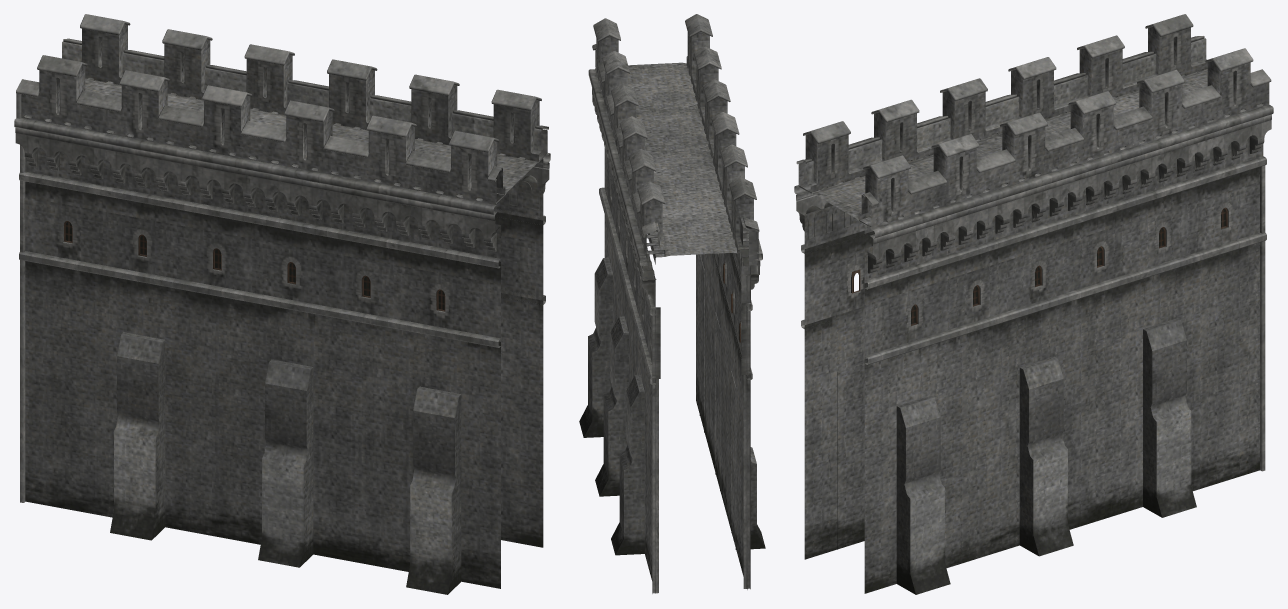
Rendered from Castle_Wall_B_Straight03.fbx.
The picture shows the model from 3 angles, left to right: view 1: azimuth 30°, elevation 25°; view 2: azimuth 150°, elevation 25°; view 3: azimuth 270°, elevation 25°; orthographic projection. The views are drawn at different scales.
Visible parts, largest first — view 1: Castle_Wall_B_Straight.003; view 2: Castle_Wall_B_Straight.003; view 3: Castle_Wall_B_Straight.003.
Boxes of the visible parts, box(x1,y1,x2,y2) form: Castle_Wall_B_Straight.003: box(14, 14, 550, 594); Castle_Wall_B_Straight.003: box(579, 14, 765, 593); Castle_Wall_B_Straight.003: box(794, 14, 1273, 594).
Size of the model in its own units: 1188 by 1383 by 1409.
